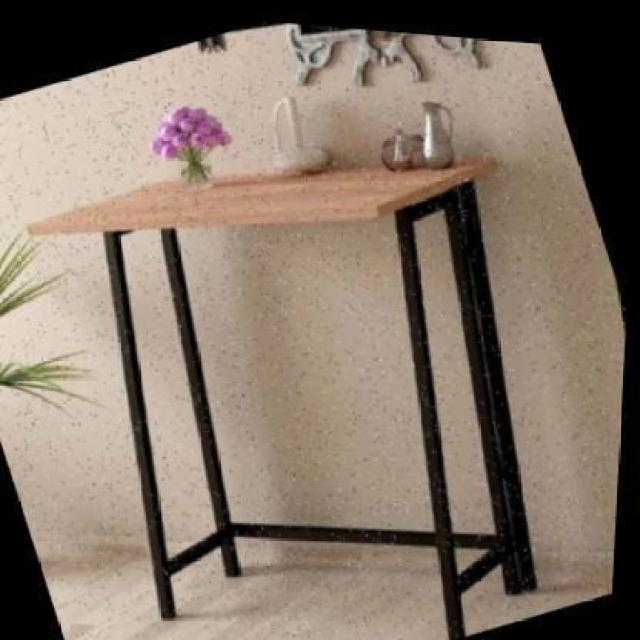tables: (25, 151, 537, 635)
